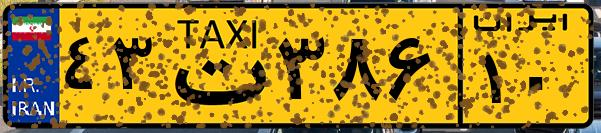0: (525, 38, 570, 115)
1: (475, 38, 525, 113)
3: (270, 28, 330, 110), (110, 28, 158, 98)
4: (57, 26, 110, 100)
6: (385, 28, 445, 110)
8: (330, 28, 385, 110)
ت: (158, 12, 270, 120)
